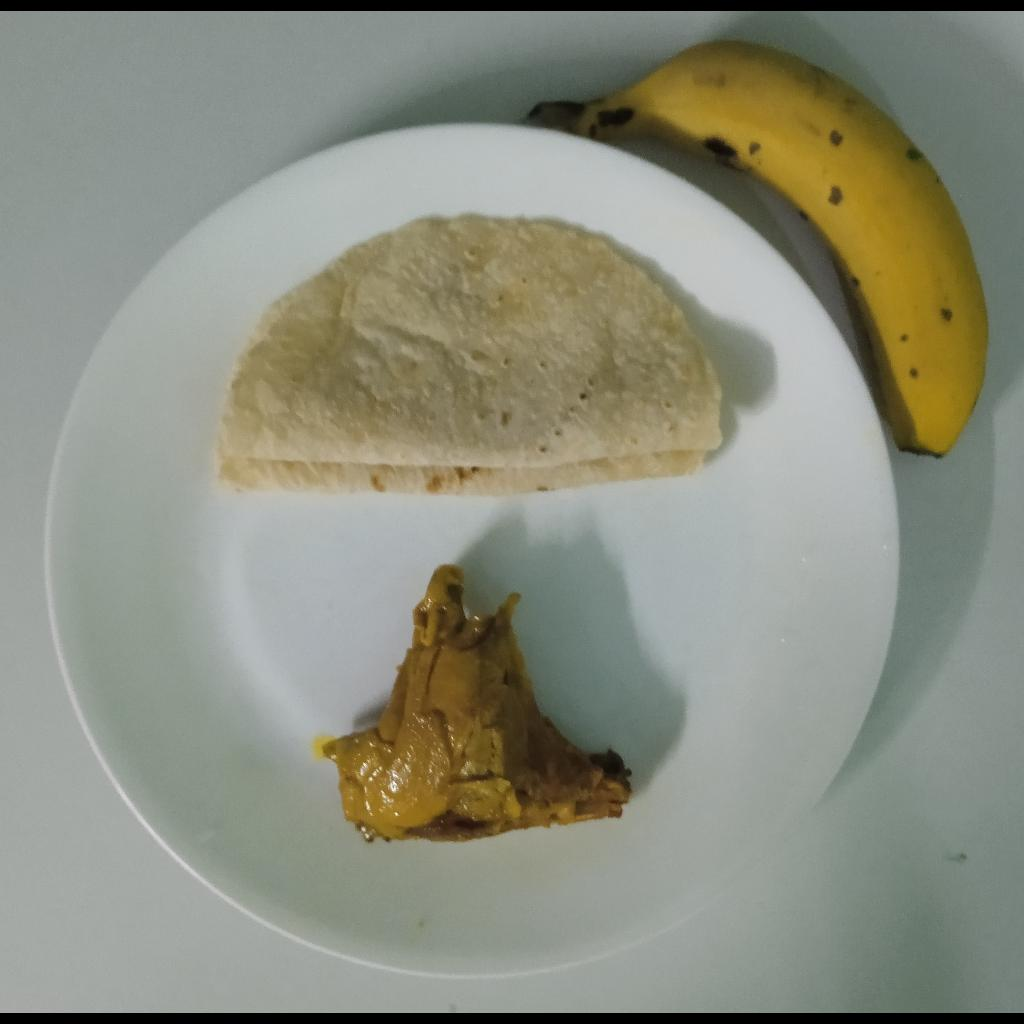banana: (516, 39, 988, 460)
chicken: (323, 566, 632, 843)
ruti: (210, 220, 722, 501)
